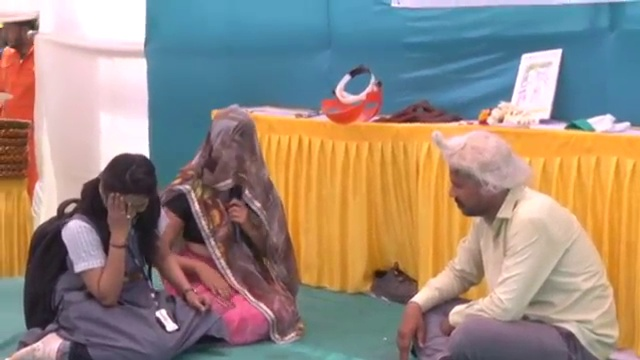helmet_off: (432, 136, 529, 221), (90, 154, 157, 229), (202, 112, 261, 182), (0, 10, 37, 51)
person: (381, 132, 627, 360), (9, 153, 188, 359), (149, 105, 302, 341), (0, 7, 40, 186)
